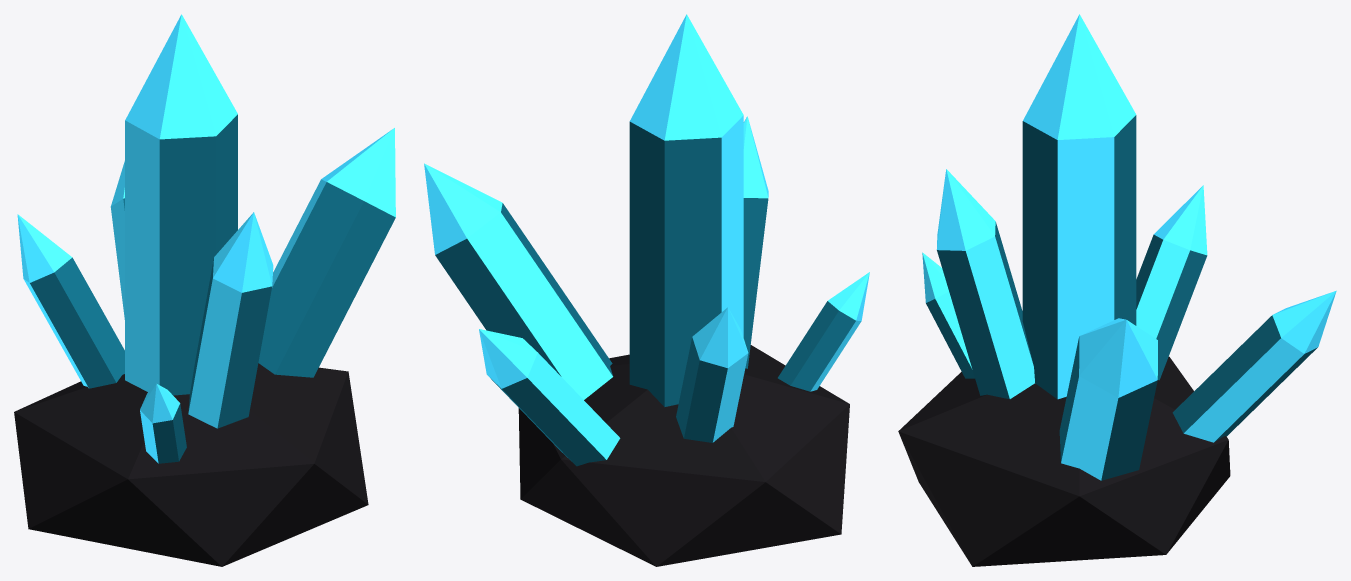
Rendered from SM_Crystal_ClusterSmall_A.glb.
The picture shows the model from 3 angles, left to right: view 1: azimuth 30°, elevation 25°; view 2: azimuth 150°, elevation 25°; view 3: azimuth 270°, elevation 25°; orthographic projection.
Parts seen in each view (by area): view 1: SM_Crystal_ClusterSmall_A; view 2: SM_Crystal_ClusterSmall_A; view 3: SM_Crystal_ClusterSmall_A.
Boxes of the visible parts, <box> form: SM_Crystal_ClusterSmall_A: <box>14,14,395,566</box>; SM_Crystal_ClusterSmall_A: <box>424,14,869,566</box>; SM_Crystal_ClusterSmall_A: <box>898,14,1336,566</box>.
Bounding box in the file's own units: 0.6639 × 0.8771 × 0.6431.
1 material, 1 textured.
